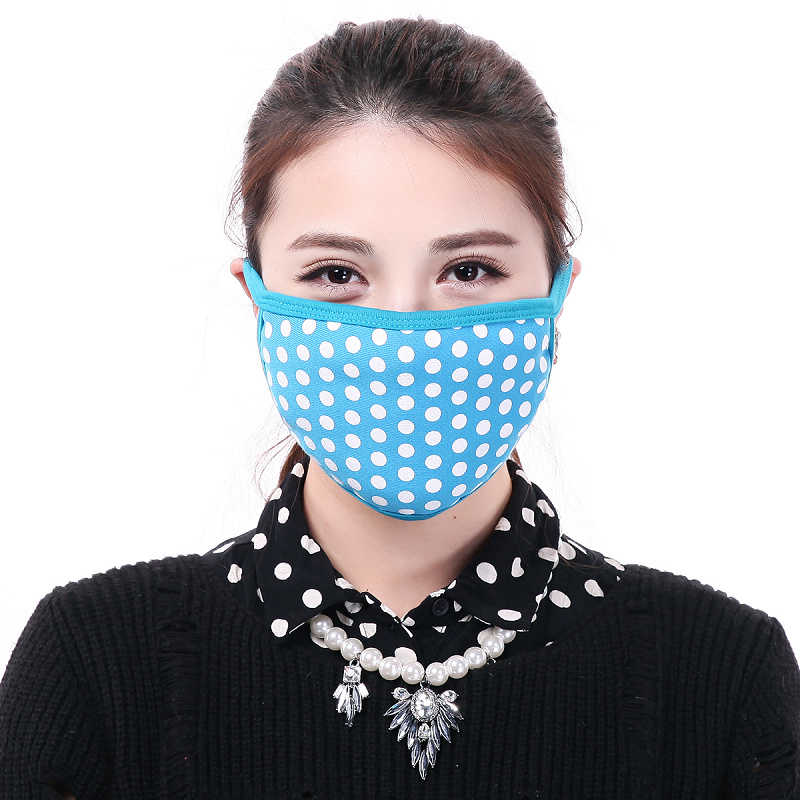face_mask: (259, 122, 546, 503)
